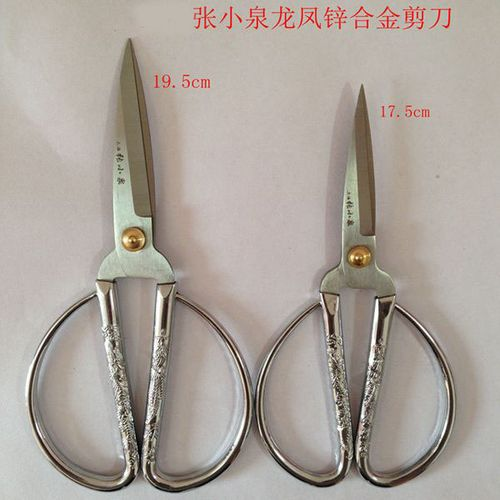scissor: (24, 36, 254, 494), (255, 85, 456, 488)
